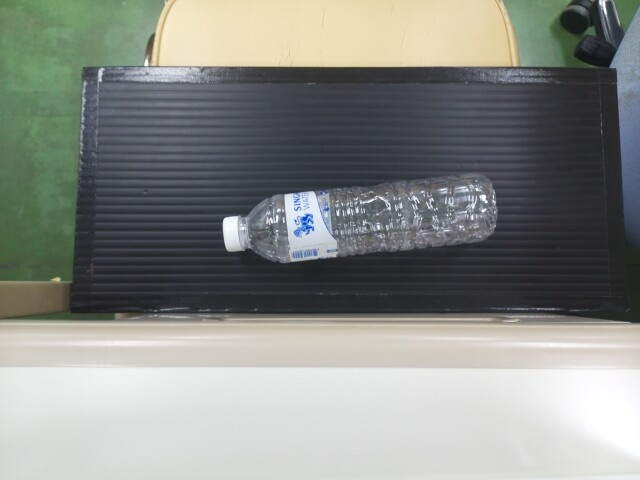plastic_bottle: (219, 184, 502, 260)
